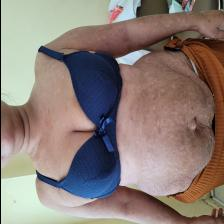Psoriasis vulgaris: (145, 143, 153, 160), (140, 104, 151, 116), (142, 79, 148, 92), (140, 156, 146, 169), (128, 116, 134, 124)
